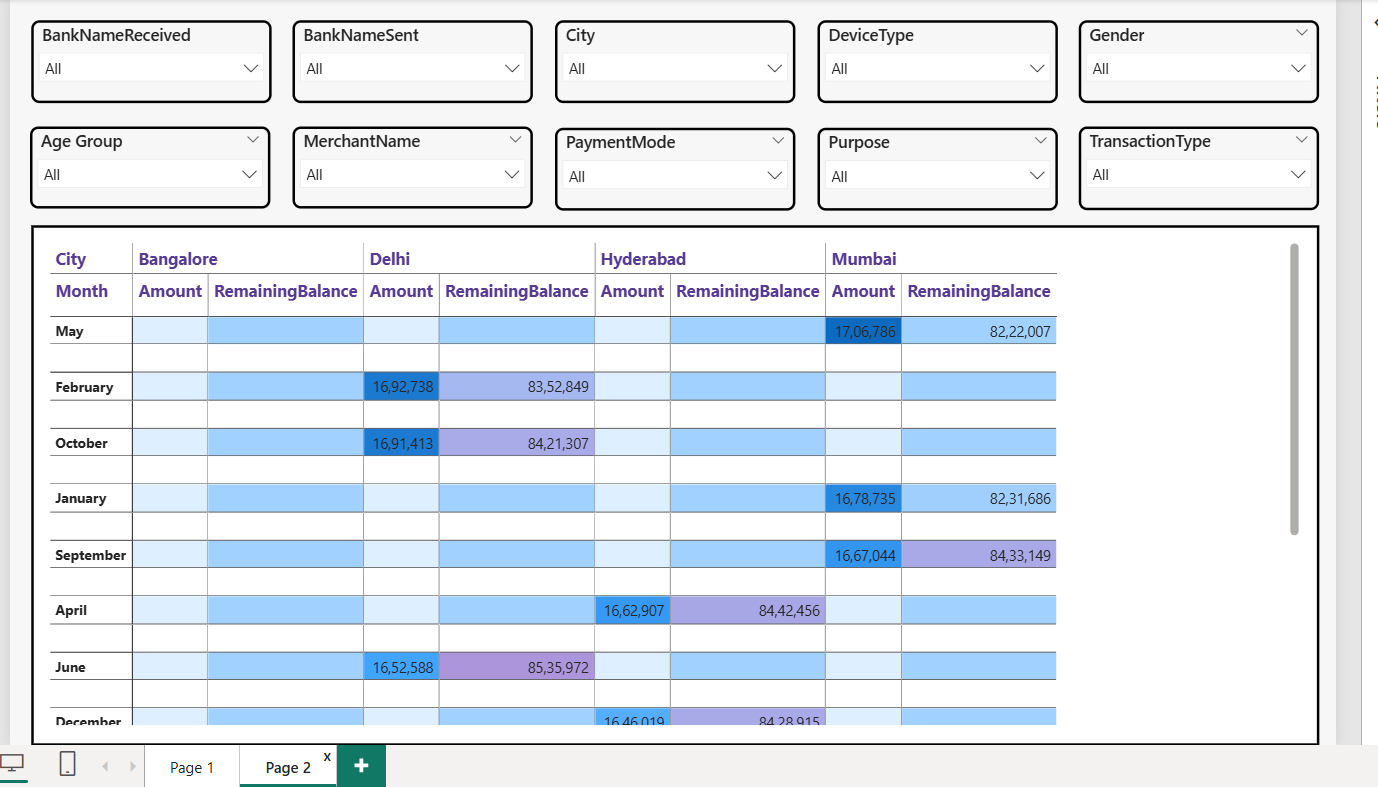

The page's visual inventory and layout, read from the dashboard file:
{"tool":"powerbi","page":{"name":"Page 2","canvas":[1280,720],"ordinal":1},"visuals":[{"type":"slicer","fields":{"Values":["Sheet1.BankNameReceived"]},"box":[20,20,232,80],"z":0},{"type":"slicer","fields":{"Values":["Sheet1.BankNameSent"]},"box":[273,20.5,232,80],"z":1},{"type":"slicer","fields":{"Values":["Sheet1.City"]},"box":[526,20.5,232,80],"z":2},{"type":"slicer","fields":{"Values":["Sheet1.DeviceType"]},"box":[779,20.5,232,80],"z":3},{"type":"slicer","fields":{"Values":["Sheet1.Gender"]},"box":[1031.9,20.6,232,80],"z":4},{"type":"slicer","fields":{"Values":["Sheet1.Age Group"]},"box":[19.2,123.5,231.9,79.6],"z":5},{"type":"slicer","fields":{"Values":["Sheet1.MerchantName"]},"box":[273.1,123.5,231.9,79.6],"z":6},{"type":"slicer","fields":{"Values":["Sheet1.PaymentMode"]},"box":[526.1,123.8,232,80],"z":7},{"type":"slicer","fields":{"Values":["Sheet1.Purpose"]},"box":[779.1,123.9,232,80],"z":8},{"type":"slicer","fields":{"Values":["Sheet1.TransactionType"]},"box":[1031.9,123.5,231.9,81],"z":9},{"type":"pivotTable","fields":{"Columns":["Sheet1.City","Sheet1.Currency"],"Rows":["Sheet1.TransactionDate.Variation.Date Hierarchy.Month"],"Values":["Sum(Sheet1.Amount)","Sum(Sheet1.RemainingBalance)"]},"box":[20.6,218.2,1243.2,502.2],"z":10}]}

Visuals, with their boxes on the page's 1280x720 design canvas (x1, y1, x2, y2). These are canvas units, not pixel positions in the 1378x787 screenshot, which may show the page scaled, cropped or inside an application window:
slicer - Sheet1.BankNameReceived: 20 20 252 100
slicer - Sheet1.BankNameSent: 273 20 505 100
slicer - Sheet1.City: 526 20 758 100
slicer - Sheet1.DeviceType: 779 20 1011 100
slicer - Sheet1.Gender: 1032 21 1264 101
slicer - Sheet1.Age Group: 19 124 251 203
slicer - Sheet1.MerchantName: 273 124 505 203
slicer - Sheet1.PaymentMode: 526 124 758 204
slicer - Sheet1.Purpose: 779 124 1011 204
slicer - Sheet1.TransactionType: 1032 124 1264 204
pivotTable - Sheet1.City x Sheet1.Currency: 21 218 1264 720
